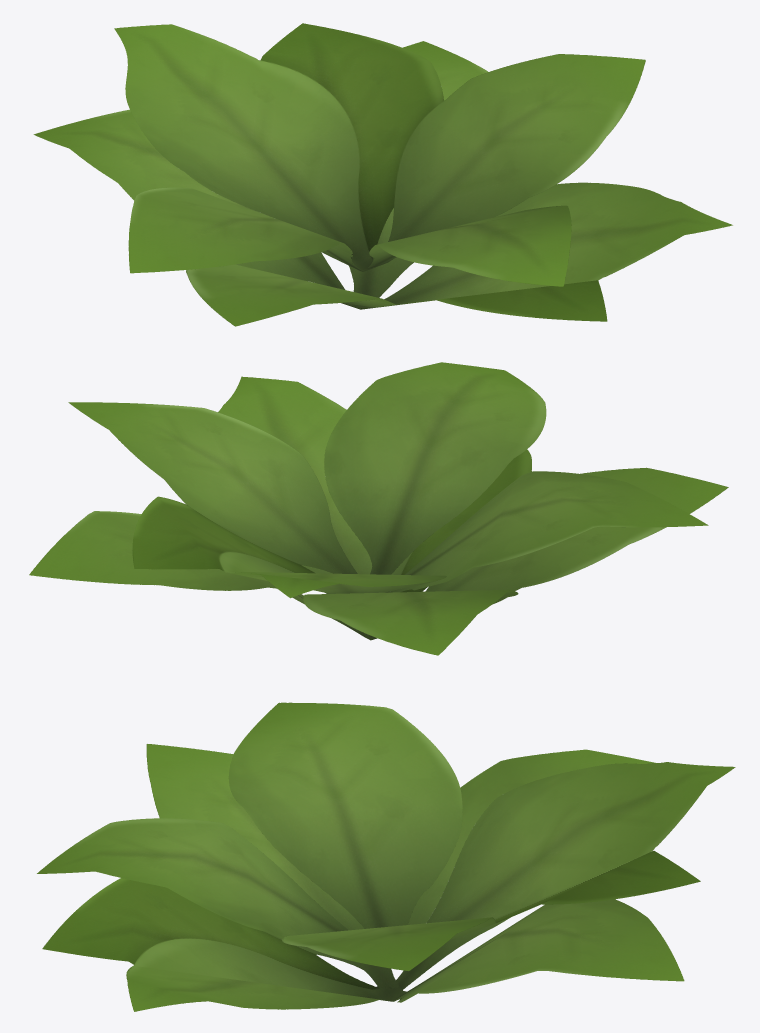
File: lowPlant.fbx
The picture shows the model from 3 angles, top to bottom: view 1: azimuth 30°, elevation 25°; view 2: azimuth 150°, elevation 25°; view 3: azimuth 270°, elevation 25°; orthographic projection. The views are drawn at different scales.
Visible parts, largest first — view 1: pPlane3, pPlane2; view 2: pPlane3, pPlane2; view 3: pPlane3, pPlane2.
Boxes of the visible parts, x1=… form: pPlane3: x1=114, y1=23, x2=645, y2=286; pPlane2: x1=33, y1=41, x2=732, y2=326; pPlane3: x1=68, y1=362, x2=708, y2=598; pPlane2: x1=29, y1=376, x2=728, y2=655; pPlane3: x1=37, y1=702, x2=735, y2=971; pPlane2: x1=42, y1=744, x2=684, y2=1011.
Size of the model in its own units: 638 by 188 by 635.
